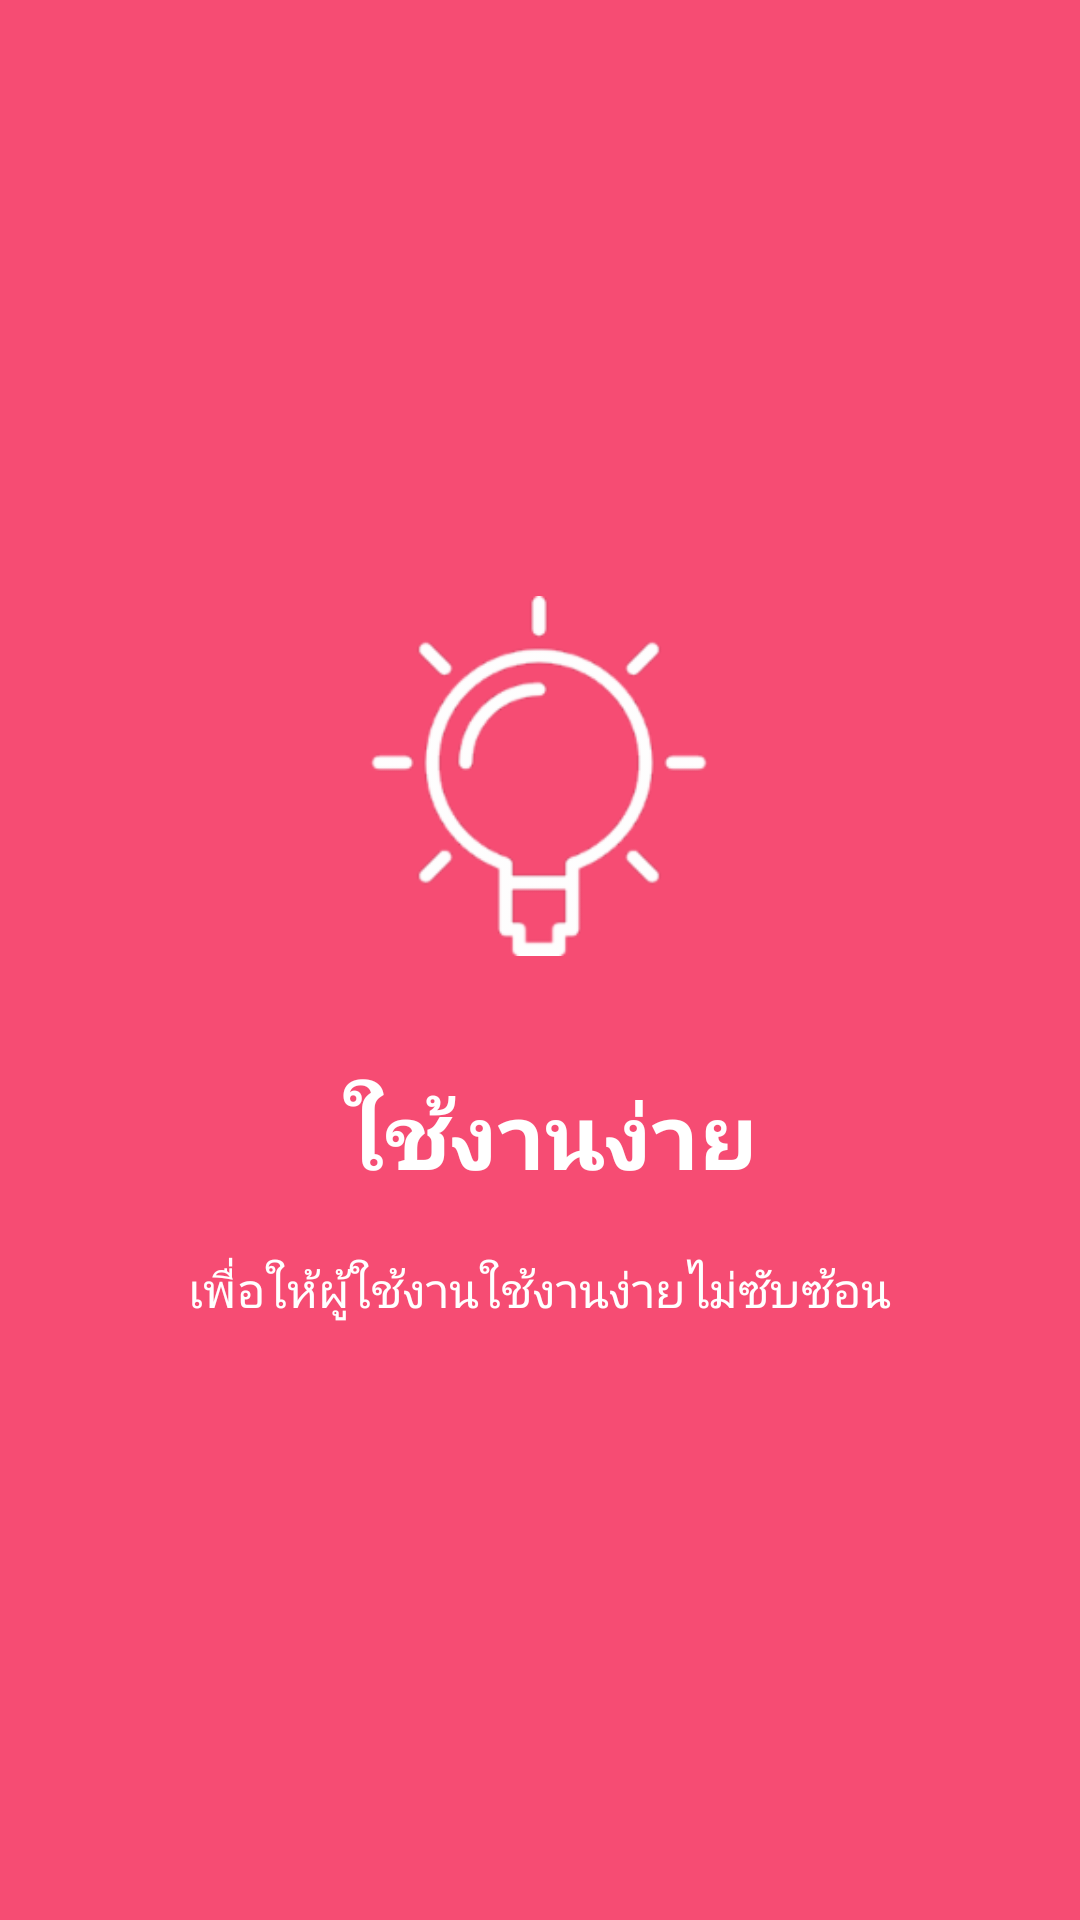

Named icons in this screenshot (1080×1920) and their bounding boxes, (x1, y1, x2, y2):
idea: (371, 596, 707, 956)
